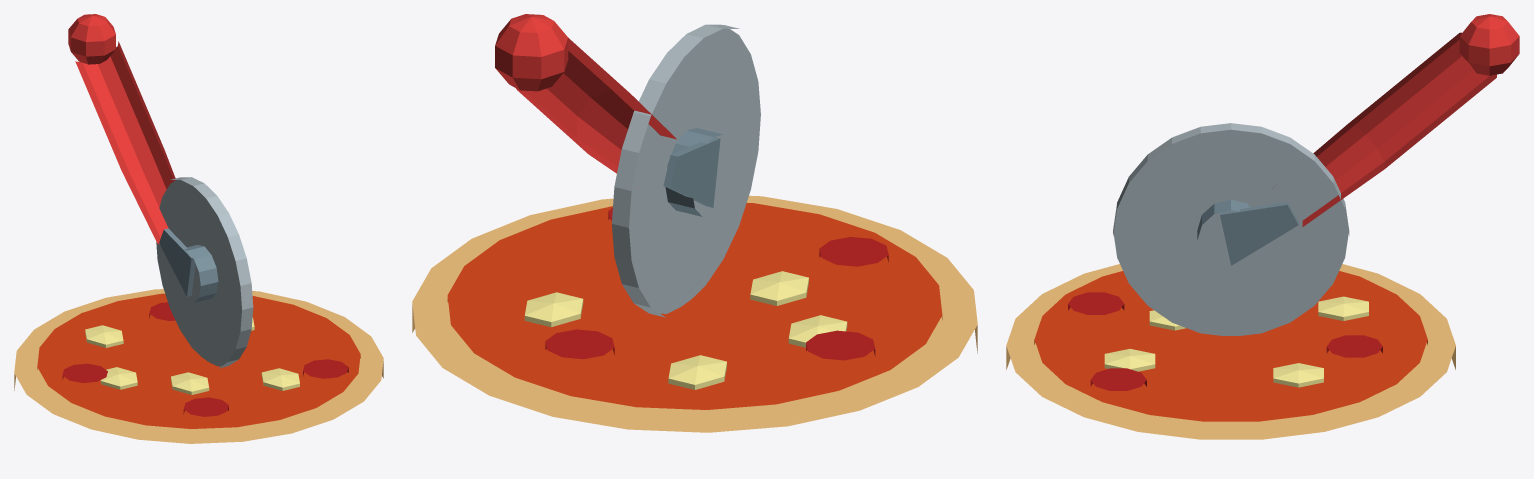
Rendered from pizzaskarare.glb.
The picture shows the model from 3 angles, left to right: view 1: azimuth 30°, elevation 25°; view 2: azimuth 150°, elevation 25°; view 3: azimuth 270°, elevation 25°; orthographic projection. The views are drawn at different scales.
Parts seen in each view (by area): view 1: pizzaskarare; view 2: pizzaskarare; view 3: pizzaskarare.
Part boxes in pixels (x1,y1,x2,y2): pizzaskarare: [14, 14, 383, 443]; pizzaskarare: [412, 14, 977, 432]; pizzaskarare: [1006, 14, 1519, 439].
Bounding box in the file's own units: 0.3959 × 0.348 × 0.4566.
